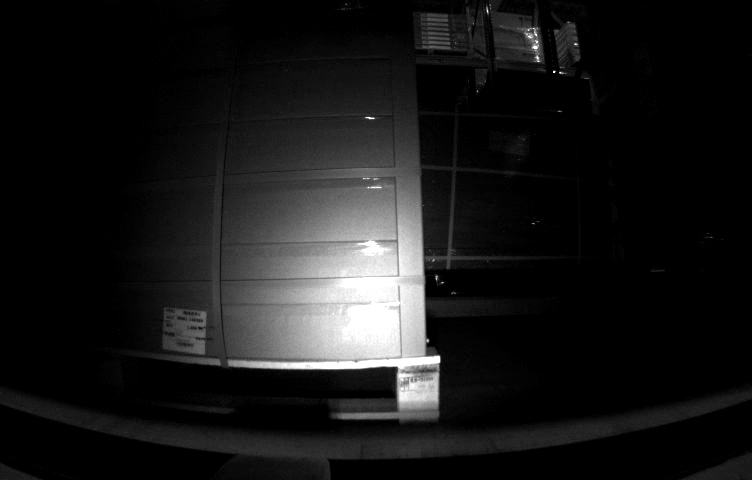True Barcode: (163, 306, 207, 356)
